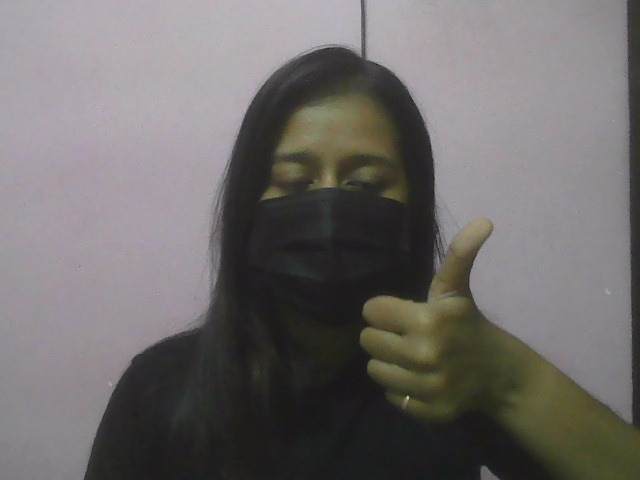Good: (351, 203, 513, 429)
